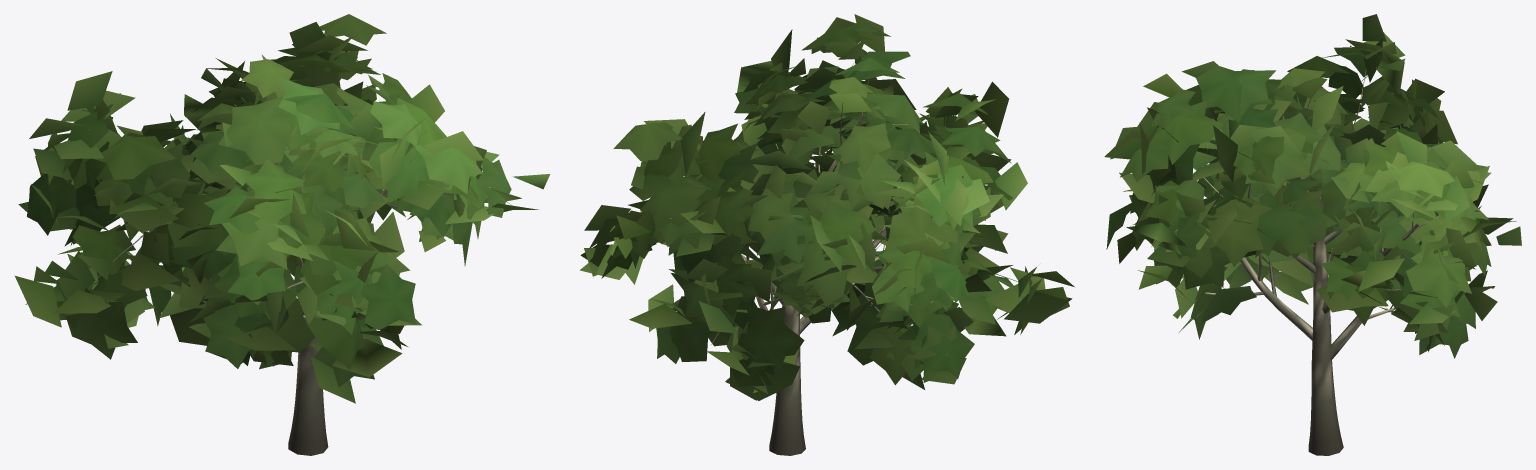
3 views of the same model, side by side, from view 1: azimuth 30°, elevation 25°; view 2: azimuth 150°, elevation 25°; view 3: azimuth 270°, elevation 25° (orthographic). The views are drawn at different scales.
Bounding box in the file's own units: 14.28 × 12.14 × 12.87.
